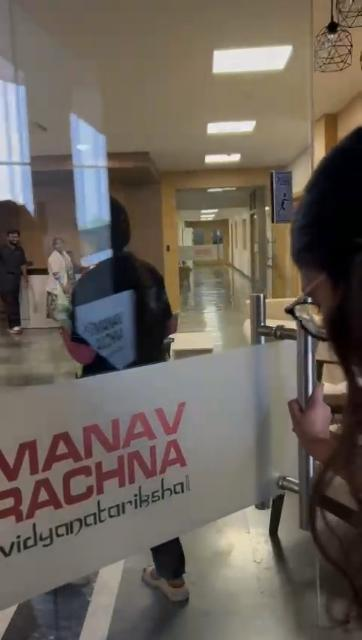moving-obj: (268, 194, 362, 596), (98, 209, 174, 593), (0, 195, 16, 392), (44, 241, 74, 333)
